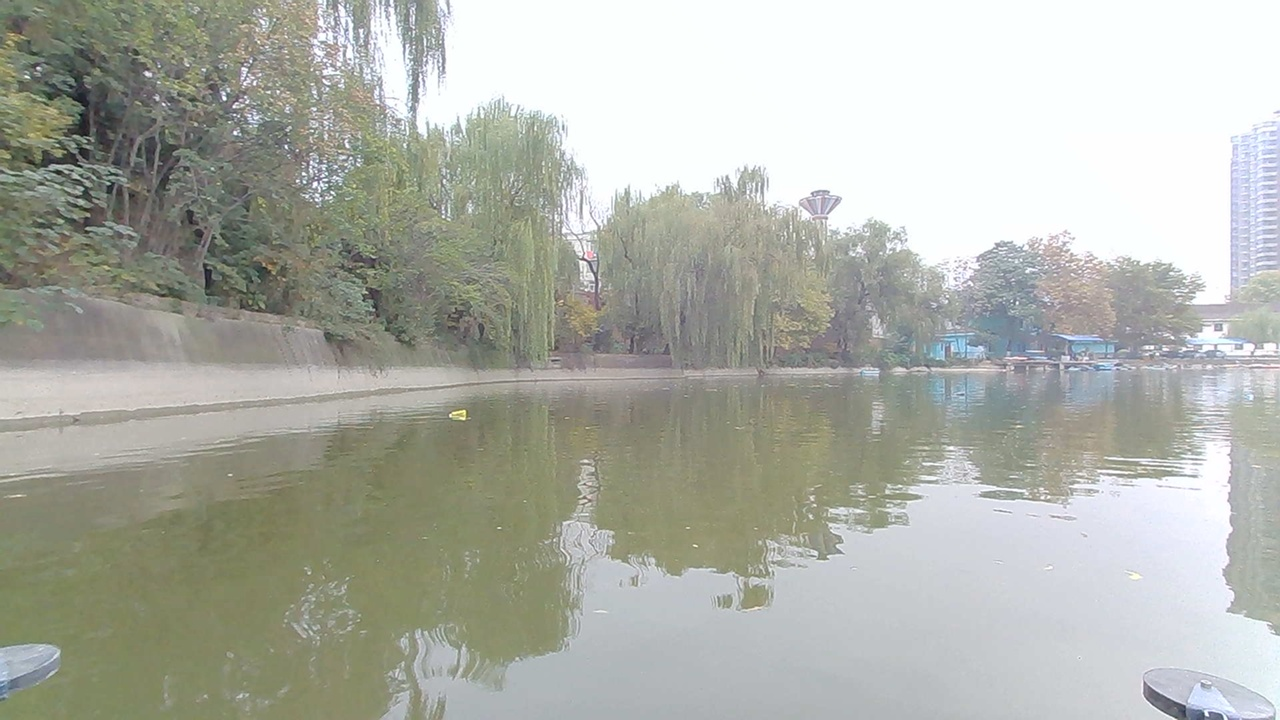bottle: (444, 405, 478, 428), (949, 388, 978, 403)
